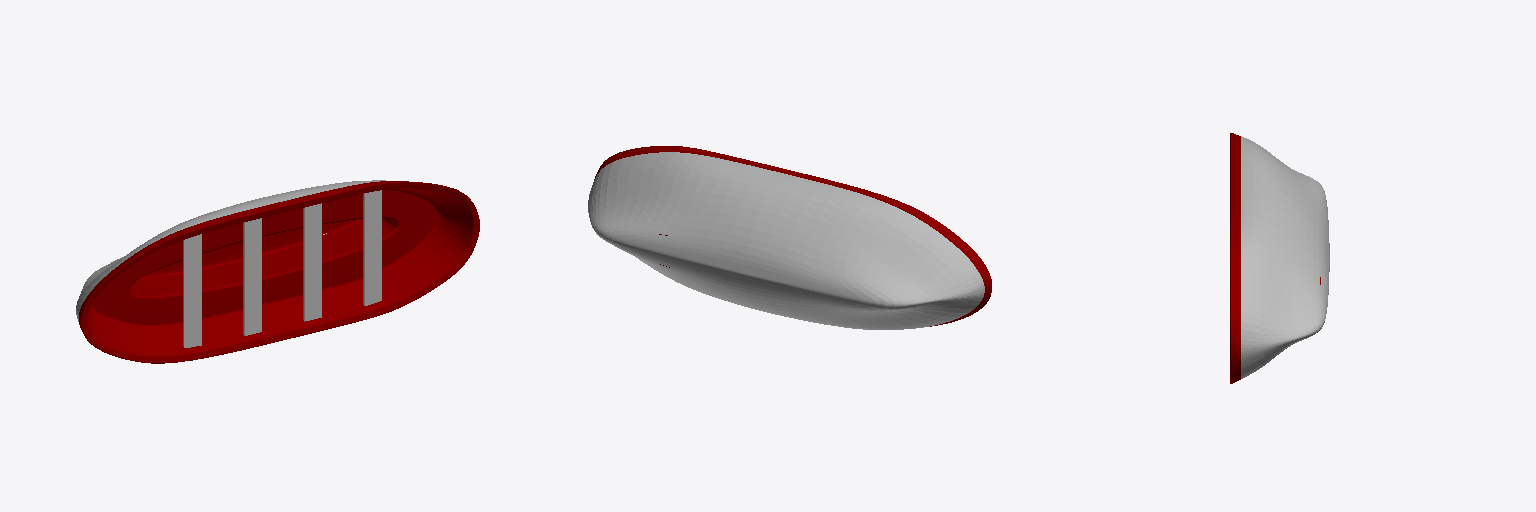
The model's file is LifeBoat.obj.
3 renders of one model, left to right at view 1: azimuth 30°, elevation 25°; view 2: azimuth 150°, elevation 25°; view 3: azimuth 270°, elevation 25°, orthographic.
Visible parts, largest first — view 1: Lifeboat, Box295; view 2: Lifeboat; view 3: Lifeboat.
Boxes of the visible parts, x1,y1,x2,y2 form: Lifeboat: [76, 180, 479, 363]; Box295: [183, 190, 381, 347]; Lifeboat: [588, 146, 991, 329]; Lifeboat: [1230, 133, 1329, 383].
Size of the model in its own units: 95.51 by 30.74 by 20.6.